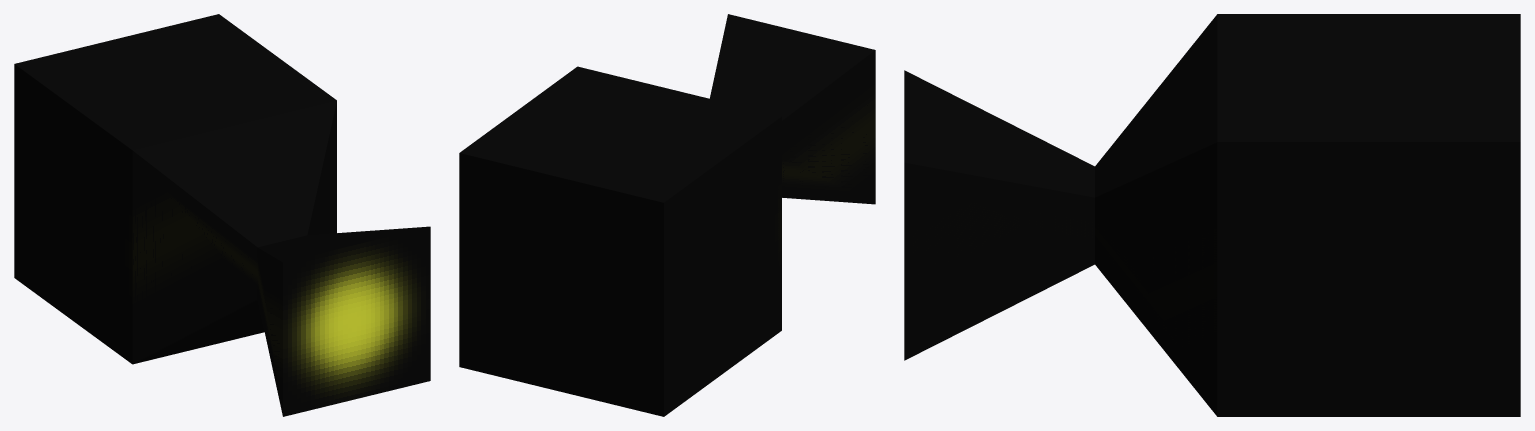
Rendered from light.glb.
3 views of the same model, side by side, from view 1: azimuth 30°, elevation 25°; view 2: azimuth 150°, elevation 25°; view 3: azimuth 270°, elevation 25° (orthographic). The views are drawn at different scales.
Parts seen in each view (by area): view 1: Cube; view 2: Cube; view 3: Cube.
Boxes of the visible parts, left/top/right/bottom form: Cube: left=14, top=14, right=430, bottom=416; Cube: left=459, top=14, right=875, bottom=416; Cube: left=904, top=14, right=1520, bottom=416.
Bounding box in the file's own units: 2 × 2 × 4.07.
1 material, 1 textured.
